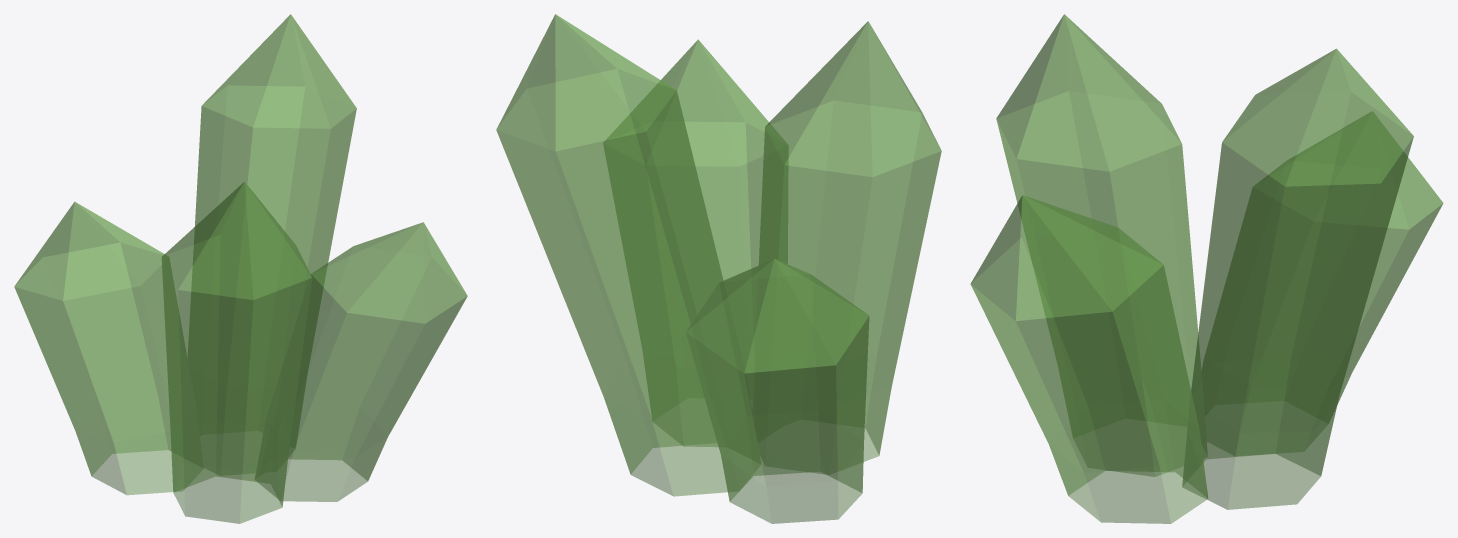
The model's file is DLowther_Crystals01.fbx.
3 views of the same model, side by side, from view 1: azimuth 30°, elevation 25°; view 2: azimuth 150°, elevation 25°; view 3: azimuth 270°, elevation 25° (orthographic). The views are drawn at different scales.
Visible parts, largest first — view 1: Crystal1; view 2: Crystal1; view 3: Crystal1.
Boxes of the visible parts, x1,y1,x2,y2 form: Crystal1: [14, 14, 467, 523]; Crystal1: [496, 14, 941, 523]; Crystal1: [970, 14, 1443, 523].
Size of the model in its own units: 1.21 by 1.48 by 1.3.
